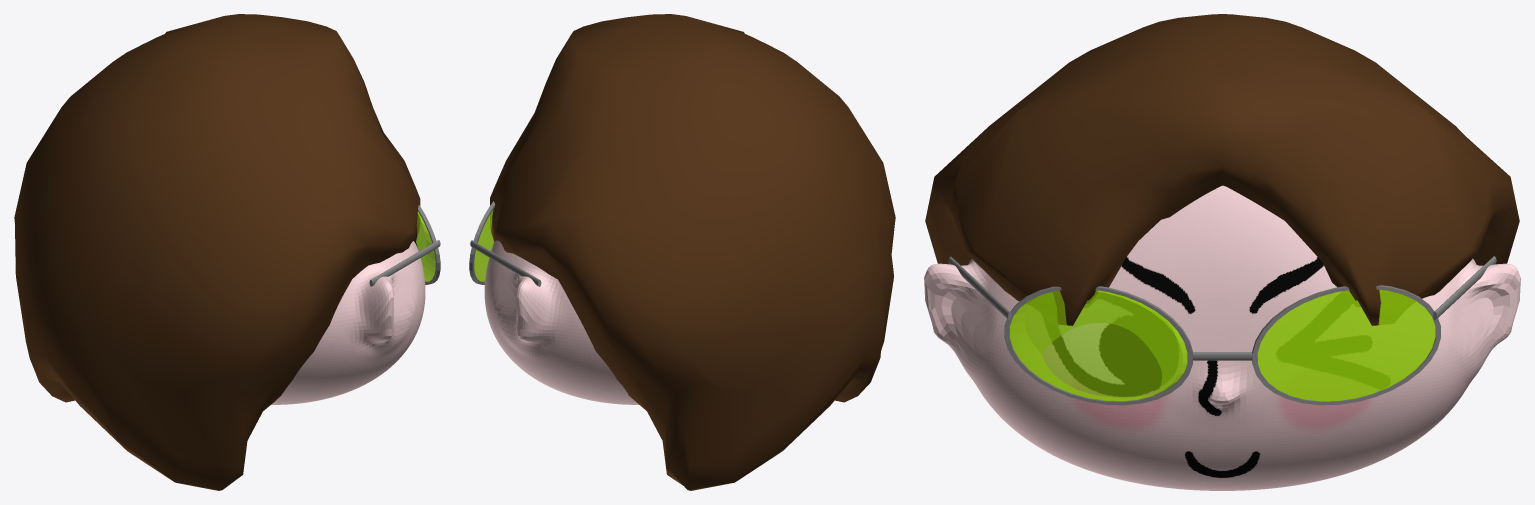
File: head02GLASSES.glb
The picture shows the model from 3 angles, left to right: view 1: azimuth 30°, elevation 25°; view 2: azimuth 150°, elevation 25°; view 3: azimuth 270°, elevation 25°; orthographic projection. The views are drawn at different scales.
Visible parts, largest first — view 1: hair, head, Cylinder.001, Cylinder.005; view 2: hair, head, Cylinder.003, Cylinder.006, Cylinder.002; view 3: hair, head, Cylinder.003, Cylinder.001, Cylinder, Cylinder.002.
Part boxes in pixels (x1,y1,x2,y2): hair: (14, 14, 420, 490); head: (271, 241, 425, 404); Cylinder.001: (416, 212, 435, 281); Cylinder.005: (369, 240, 440, 286); hair: (490, 14, 895, 490); head: (484, 240, 638, 404); Cylinder.003: (474, 209, 493, 281); Cylinder.006: (470, 240, 541, 286); Cylinder.002: (469, 201, 495, 284); hair: (925, 14, 1519, 325); head: (924, 185, 1520, 490); Cylinder.003: (1257, 290, 1435, 401); Cylinder.001: (1009, 290, 1187, 401); Cylinder: (1004, 286, 1192, 405); Cylinder.002: (1252, 285, 1440, 405).
Size of the model in its own units: 2.06 by 2.24 by 2.56.
Materials: 4 (1 with a texture image).
